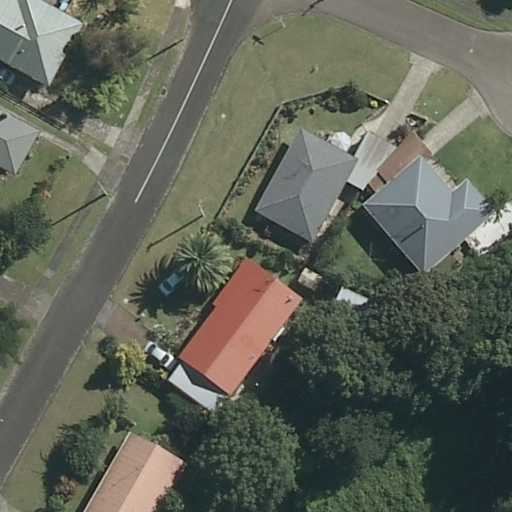DT: (91, 178, 111, 200), (193, 198, 204, 222)
